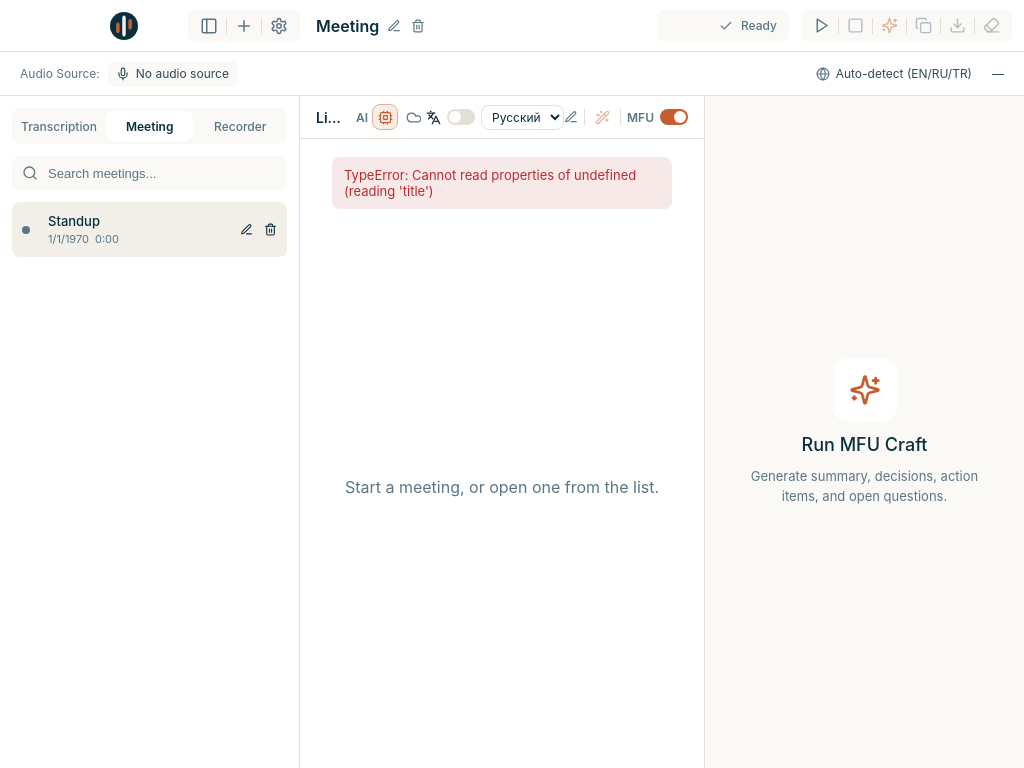
Test: StreamingView — events › a failed delete surfaces the error
Check: the text "Standup" is shown, box left=48, top=213, right=100, bottom=229
Click the button named "Delete Standup": [270, 230] box left=259, top=218, right=281, bottom=240
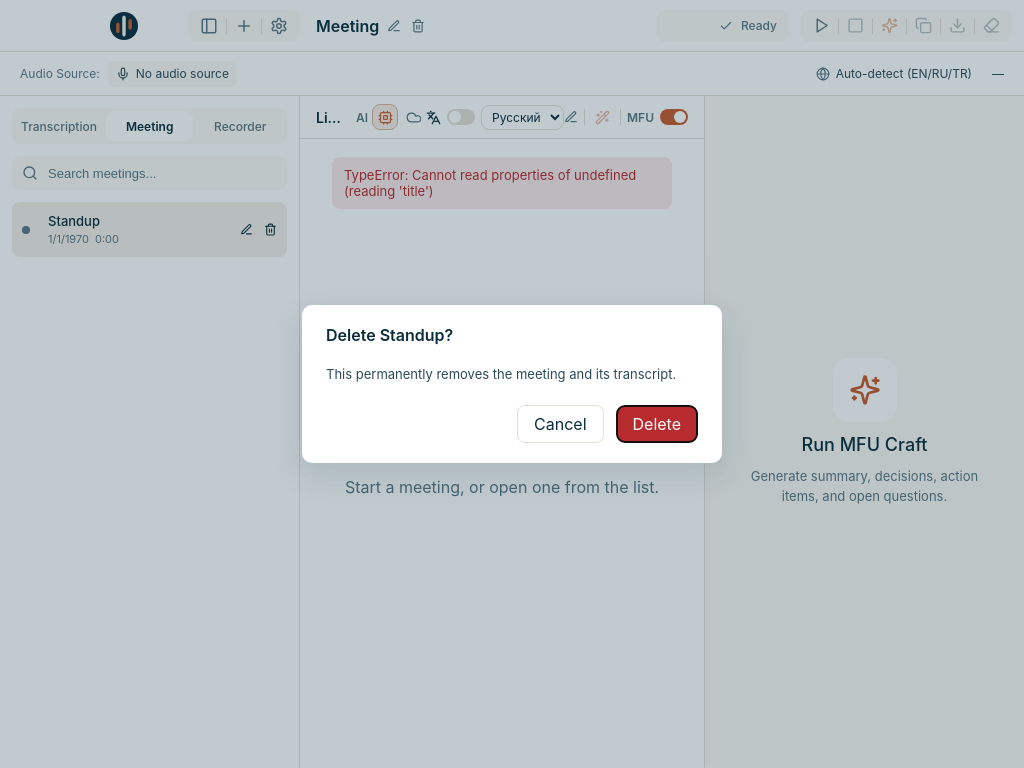
Click the button "Delete": [657, 424] box left=616, top=405, right=698, bottom=443
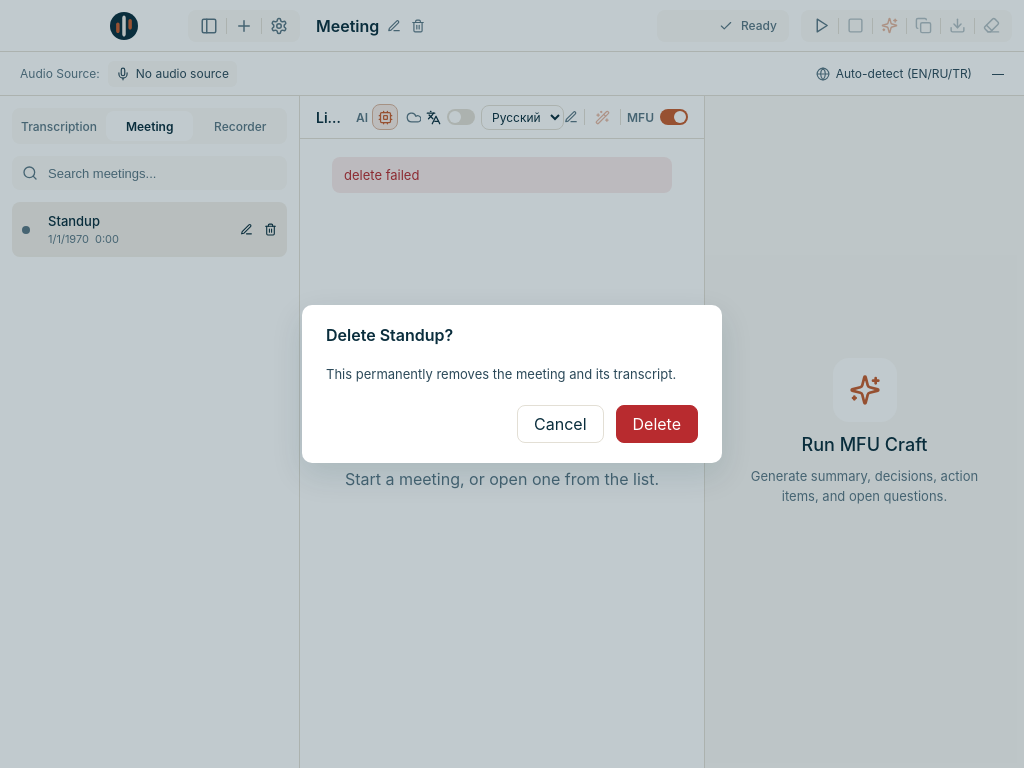
Check: the text "delete failed" is shown, box left=332, top=157, right=672, bottom=193
